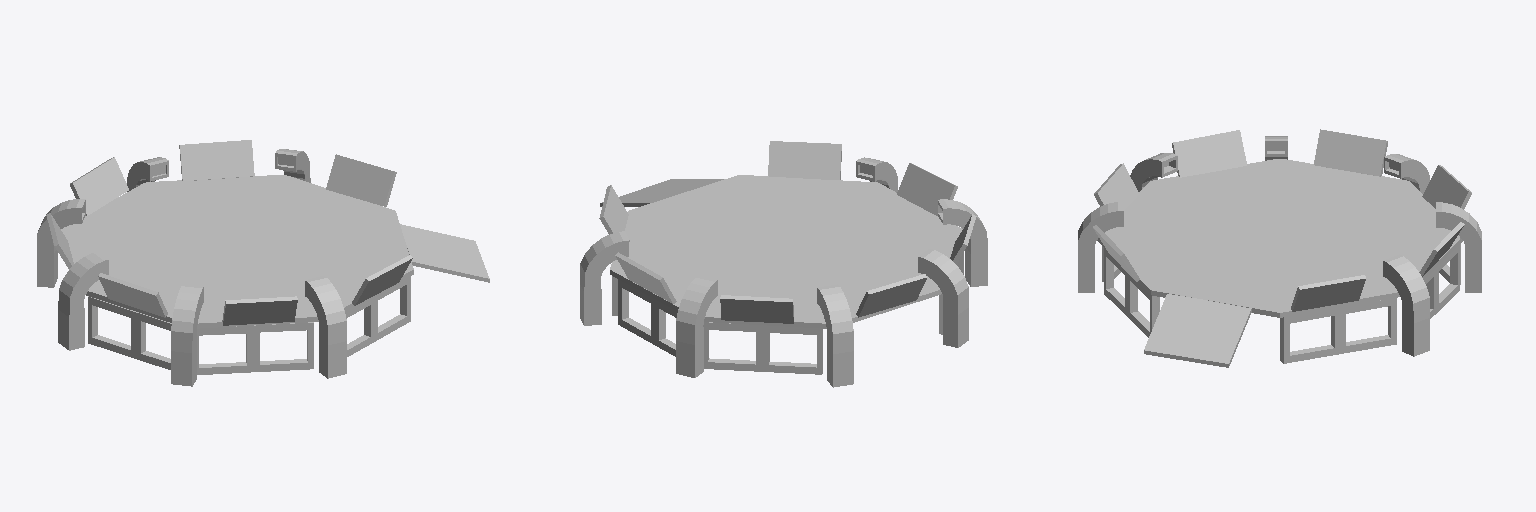
Rendered from Arch_launchpad.obj.
3 views of the same model, side by side, from view 1: azimuth 30°, elevation 25°; view 2: azimuth 150°, elevation 25°; view 3: azimuth 270°, elevation 25° (orthographic).
Visible parts, largest first — view 1: Cylinder; view 2: Cylinder; view 3: Cylinder.
Boxes of the visible parts, x1=… form: Cylinder: x1=37, y1=140, x2=489, y2=386; Cylinder: x1=580, y1=141, x2=987, y2=387; Cylinder: x1=1078, y1=129, x2=1481, y2=367.
Bounding box in the file's own units: 24.46 × 5.09 × 22.09.